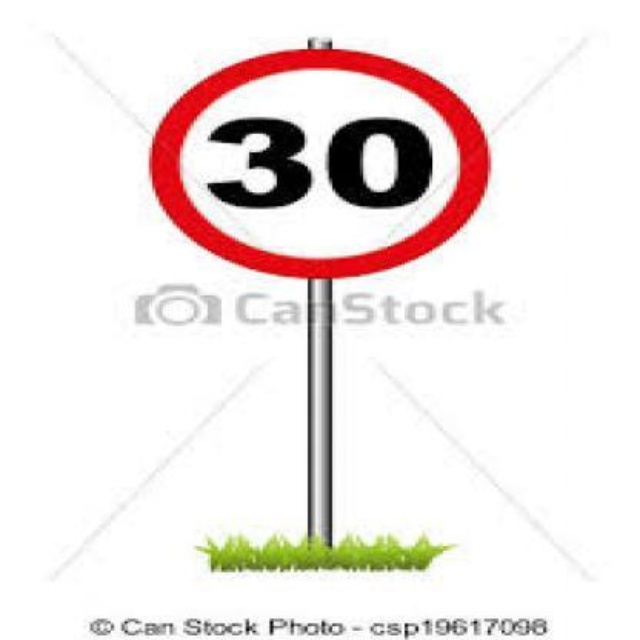Tốc độ tối đa cho phép 30km/h: (146, 48, 489, 280)
